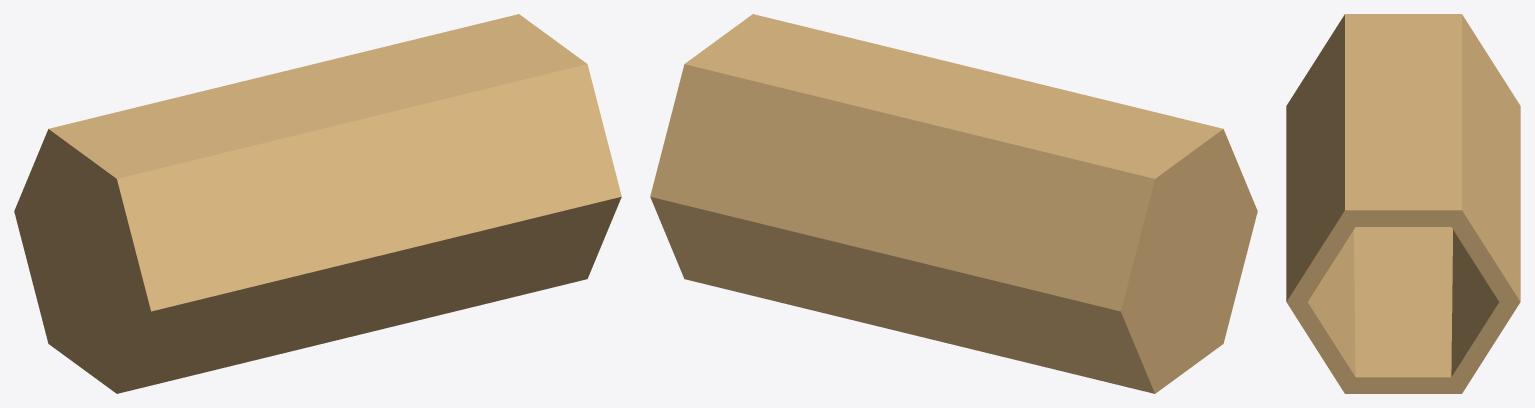
Rendered from Bullet_02_2.fbx.
3 views of the same model, side by side, from view 1: azimuth 30°, elevation 25°; view 2: azimuth 150°, elevation 25°; view 3: azimuth 270°, elevation 25° (orthographic). The views are drawn at different scales.
Parts seen in each view (by area): view 1: Bullet_02_2; view 2: Bullet_02_2; view 3: Bullet_02_2.
Boxes of the visible parts, x1,y1,x2,y2 form: Bullet_02_2: (14,14,621,393); Bullet_02_2: (650,14,1257,393); Bullet_02_2: (1286,14,1520,393).
Size of the model in its own units: 0.0246 by 0.0107 by 0.0124.
